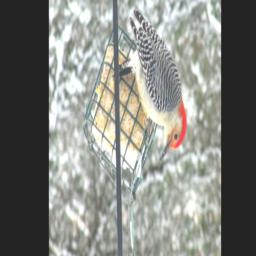Woodpecker: (116, 9, 187, 159)
